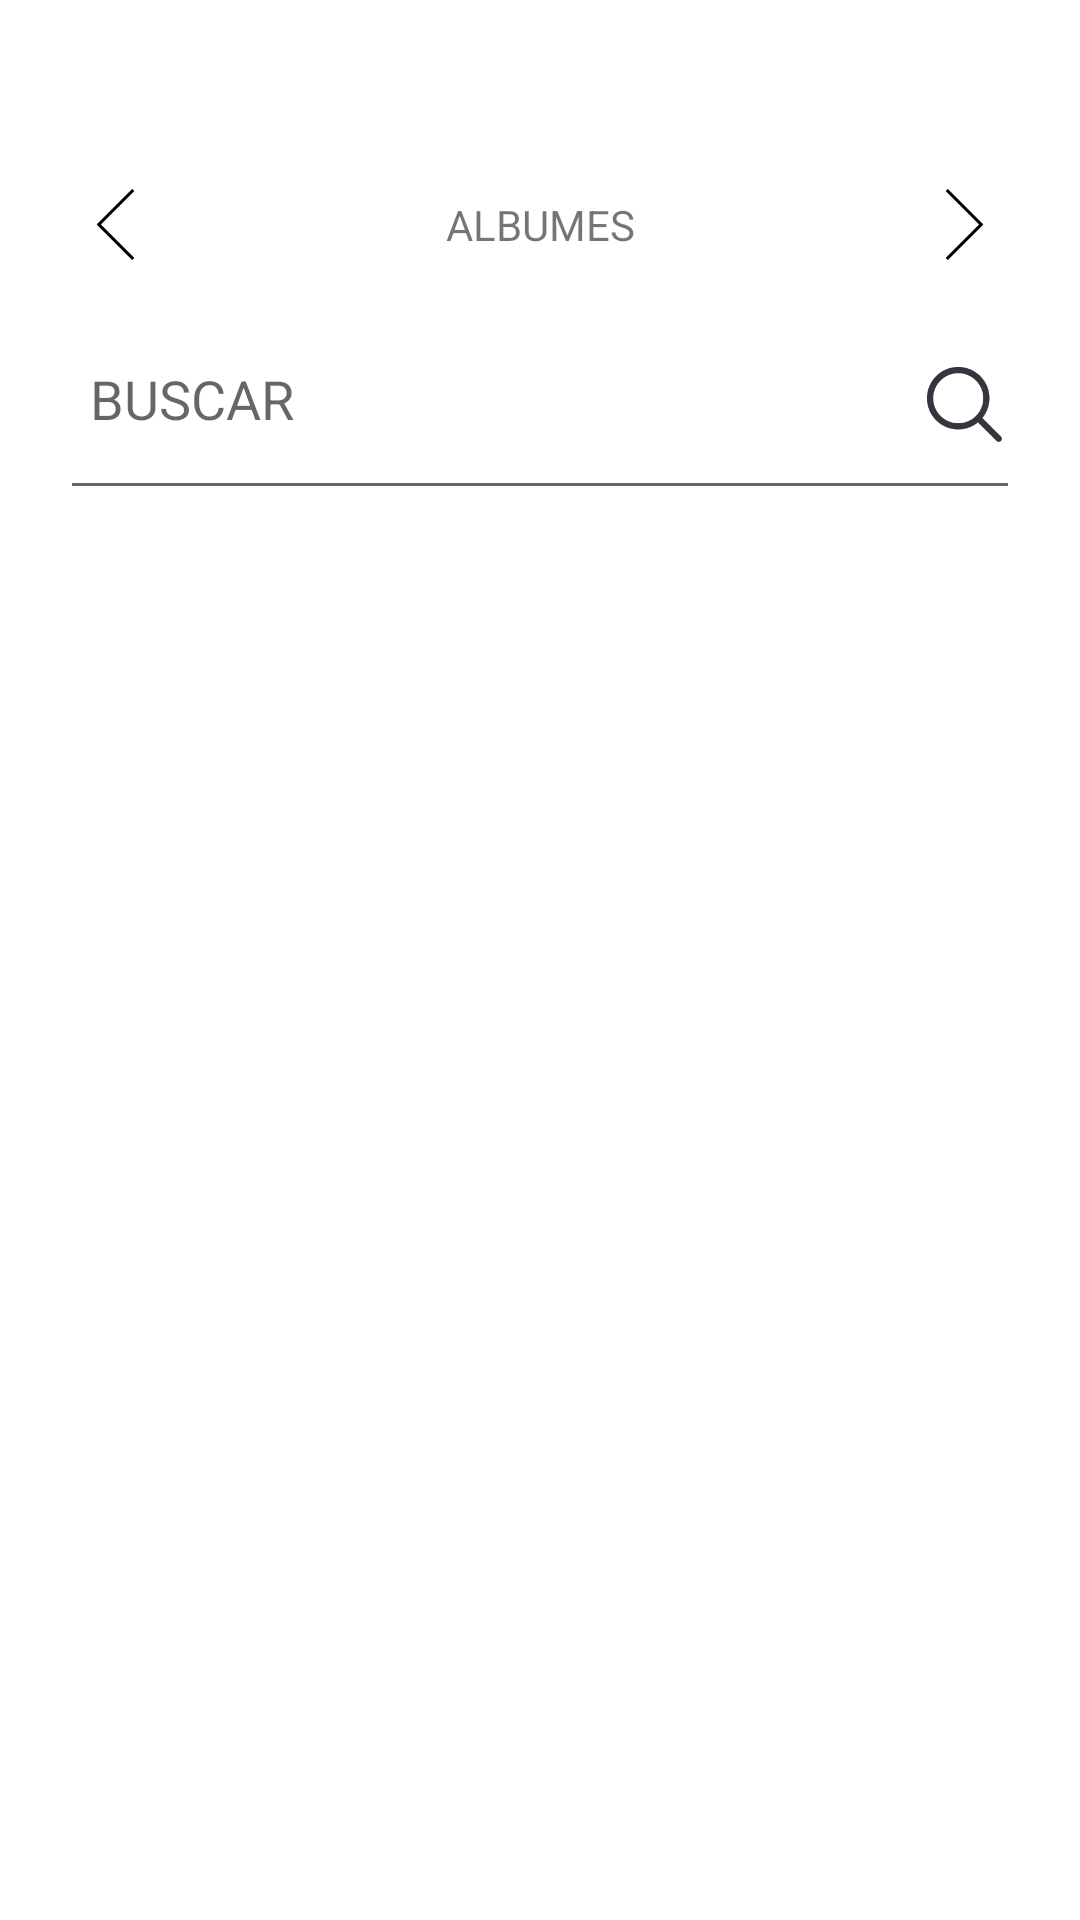

Where icons sit on this 1080×1920 app screen, as box(x1, y1, x2, y2):
less than: box(97, 189, 134, 260)
more than: box(946, 189, 983, 260)
search: box(927, 367, 1002, 442)
